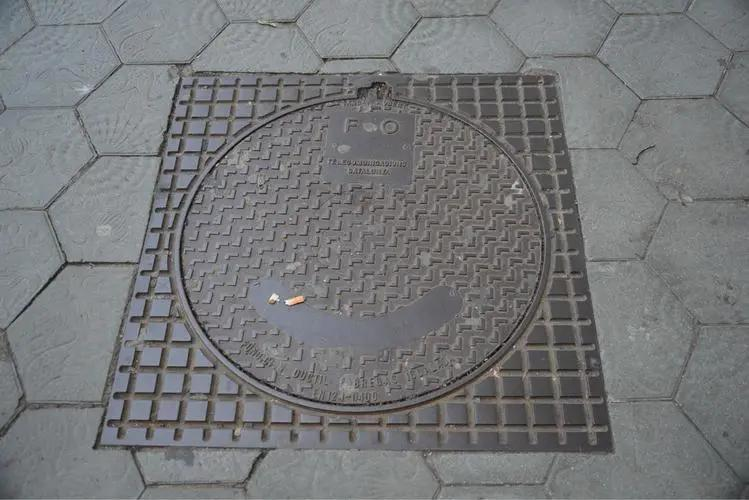wellcover: (98, 44, 616, 466)
